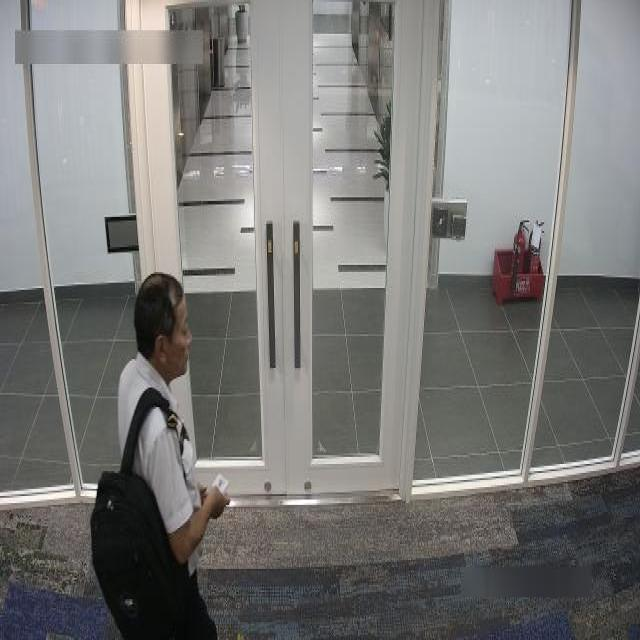bare_hand: (198, 471, 245, 517)
